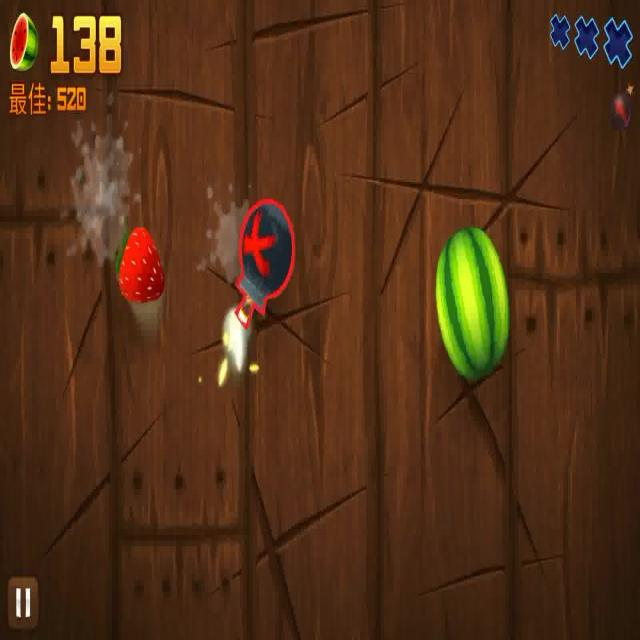bomb: (233, 197, 291, 336)
fruit: (435, 225, 509, 374), (115, 216, 161, 300)
